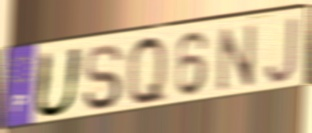6: (175, 29, 210, 101)
J: (263, 14, 299, 86)
N: (216, 21, 258, 95)
Q: (125, 33, 169, 108)
S: (81, 42, 125, 113)
U: (31, 45, 86, 121)
